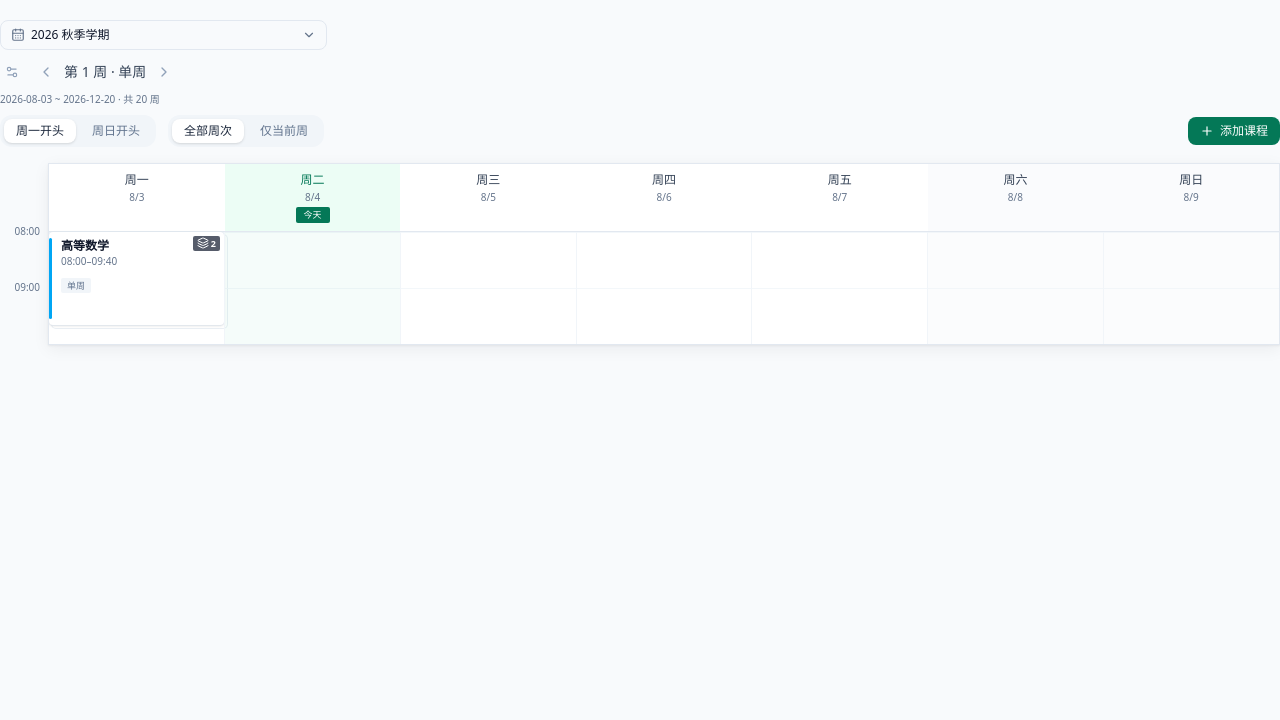
Test case: 视图空态 › 错周同槽课程折叠为堆叠卡，点击浮层展开
The image size is (1280, 720).
Check: the text "单周" is shown, box top-left (61, 278), bottom-right (91, 292)
Check: the text "双周" is not shown
Click the button with aria-label "共 2 门": [136, 278] box top-left (49, 232), bottom-right (224, 325)
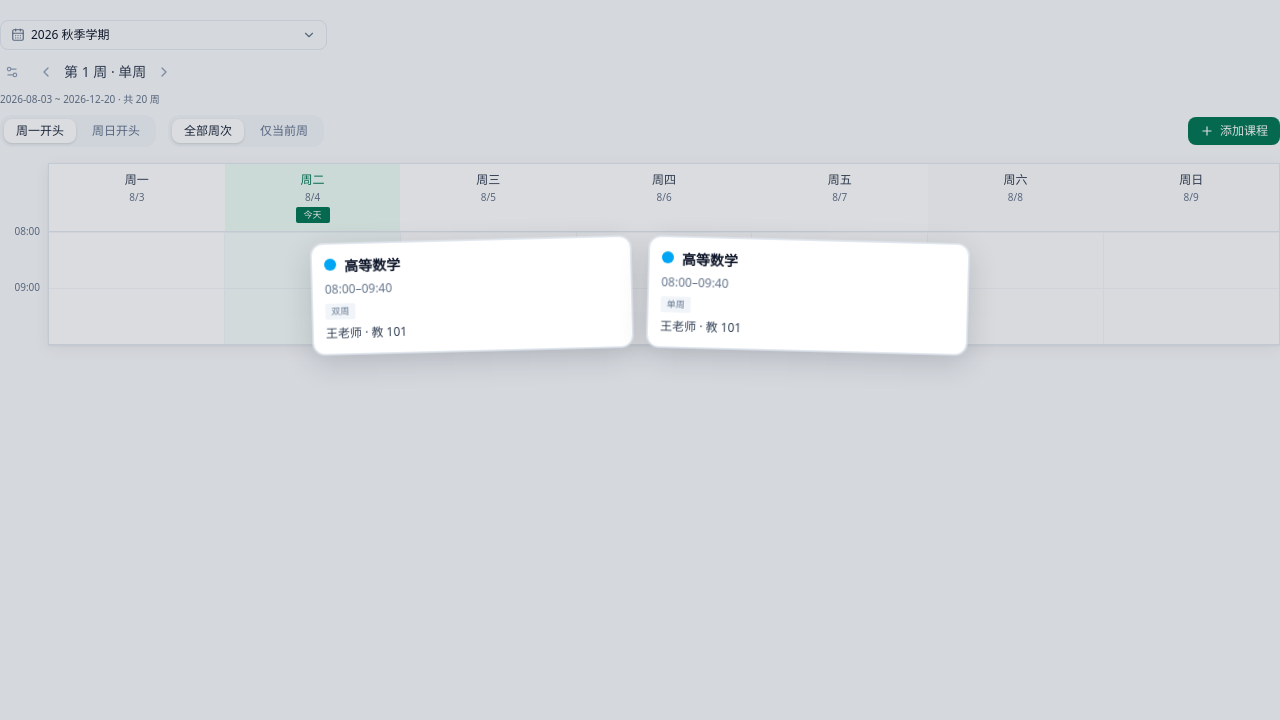
Check: the button with test id "course-stack-odd" is gone
Check: the text "双周" is shown, box top-left (325, 303), bottom-right (356, 320)
Check: the 1st text "王老师 · 教 101" is shown, box top-left (326, 324), bottom-right (407, 342)
Click the button "高等数学 08:00–09:40 双周 王老师 · 教 101": [372, 265] box top-left (311, 236), bottom-right (633, 355)
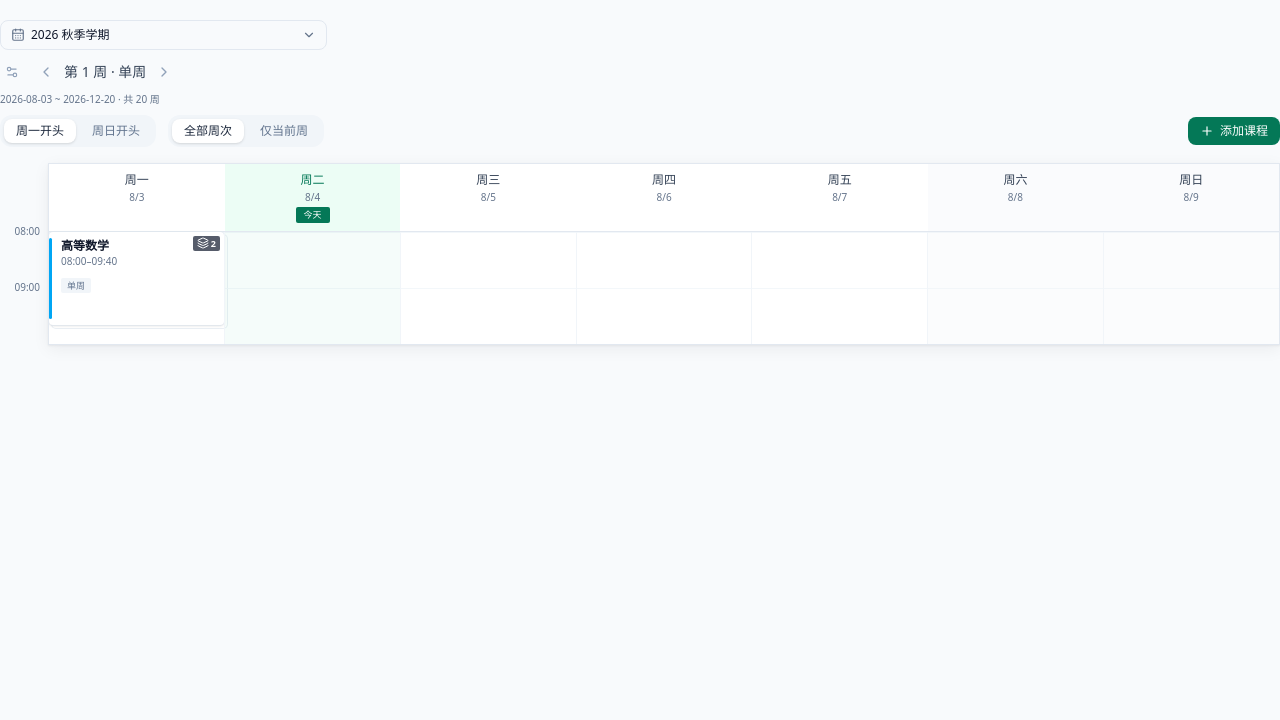
Press Escape
Check: the button with test id "course-stack-odd" is shown
Click the button with aria-label "共 2 门": [136, 278] box top-left (49, 232), bottom-right (224, 325)
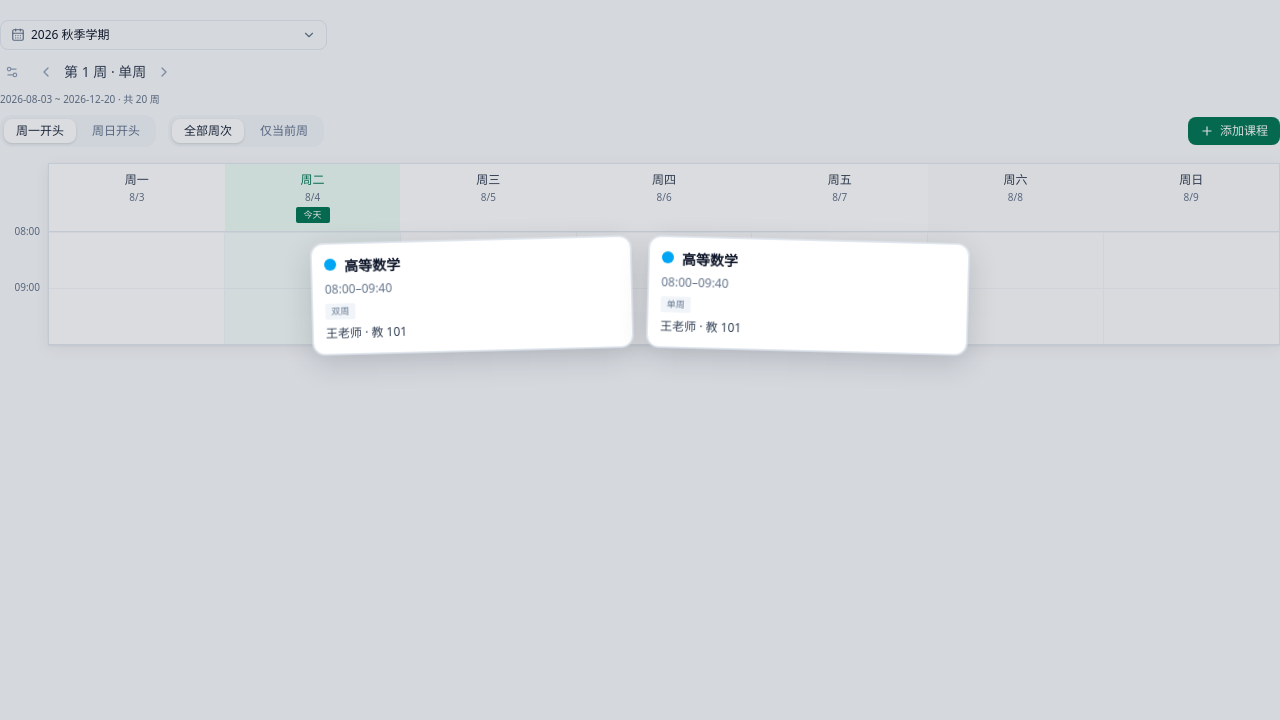
Click the element with class "z-40": [640, 360] box top-left (0, 0), bottom-right (1279, 719)
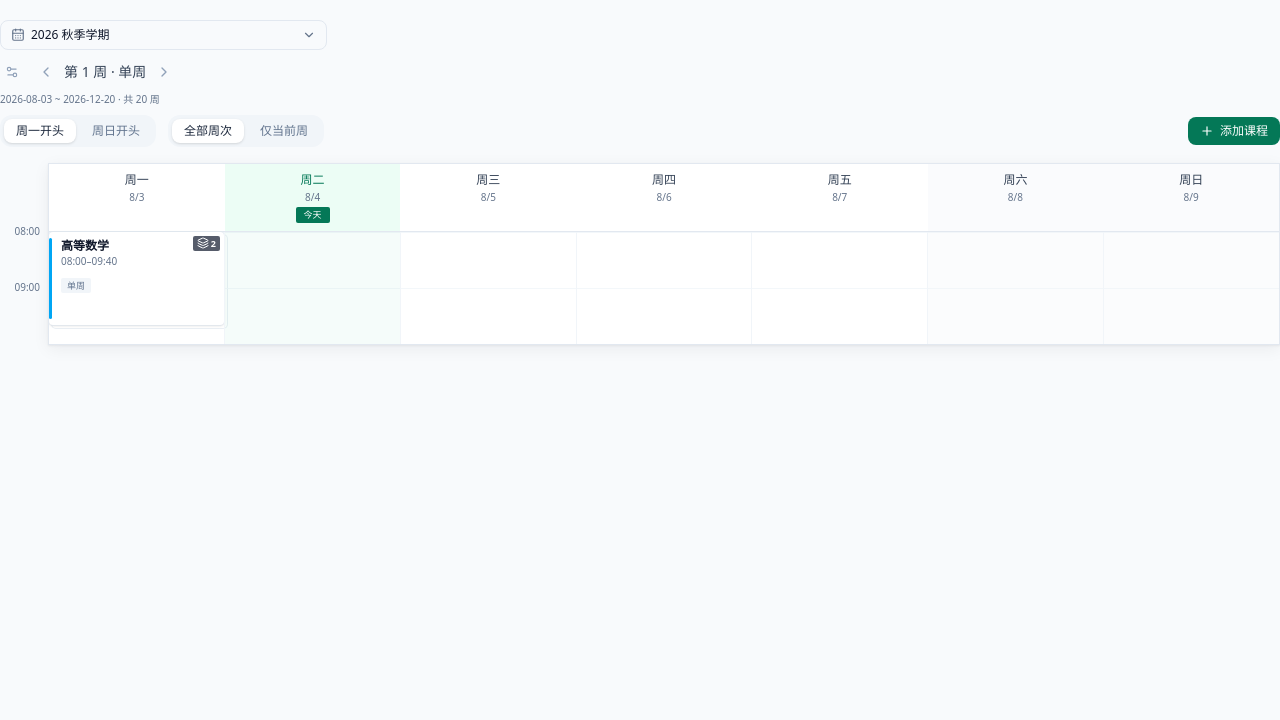
Check: the button with test id "spread-card-odd" is gone
